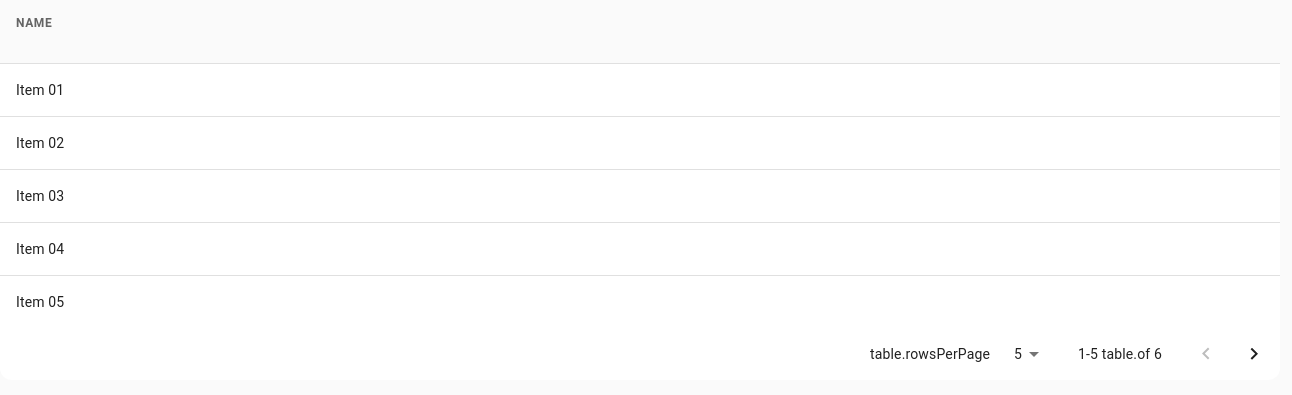
Test case: DataTable › pagination resets on sort › resets to first page when sort is applied
Click the button named "goToNextPage" at (1254, 354), box top-left (1230, 330), bottom-right (1278, 378)
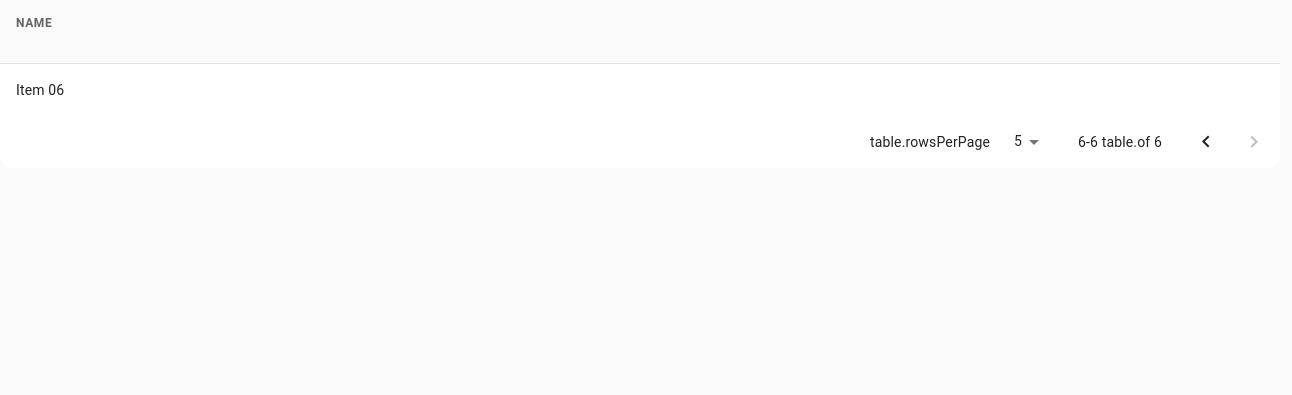
Check: the cell "Item 06" is shown, box top-left (0, 64), bottom-right (1280, 116)
Click the button "Name" at (34, 23), box top-left (16, 16), bottom-right (52, 30)
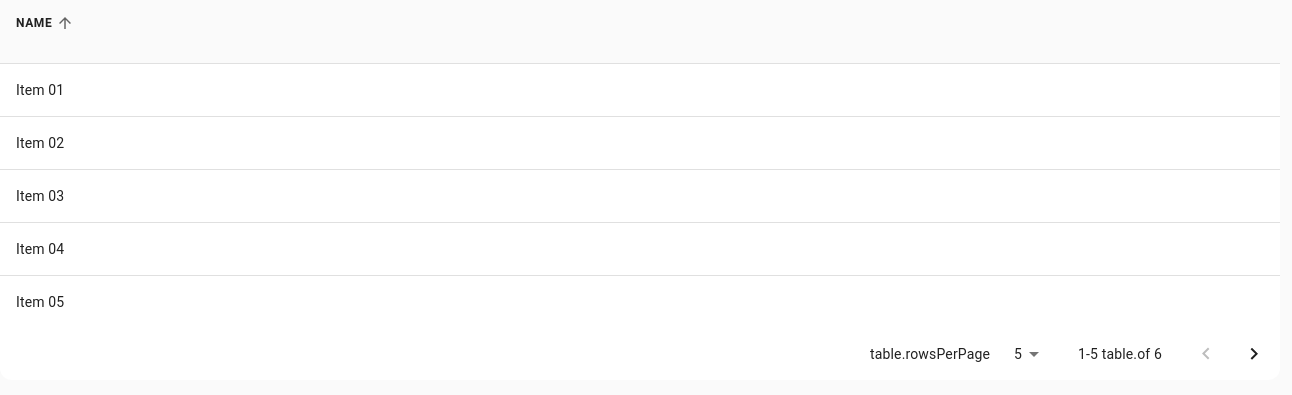
Check: the number of cells is 5, box top-left (0, 64), bottom-right (1280, 116); top-left (0, 116), bottom-right (1280, 170); top-left (0, 170), bottom-right (1280, 222); top-left (0, 222), bottom-right (1280, 276); top-left (0, 276), bottom-right (1280, 328)
